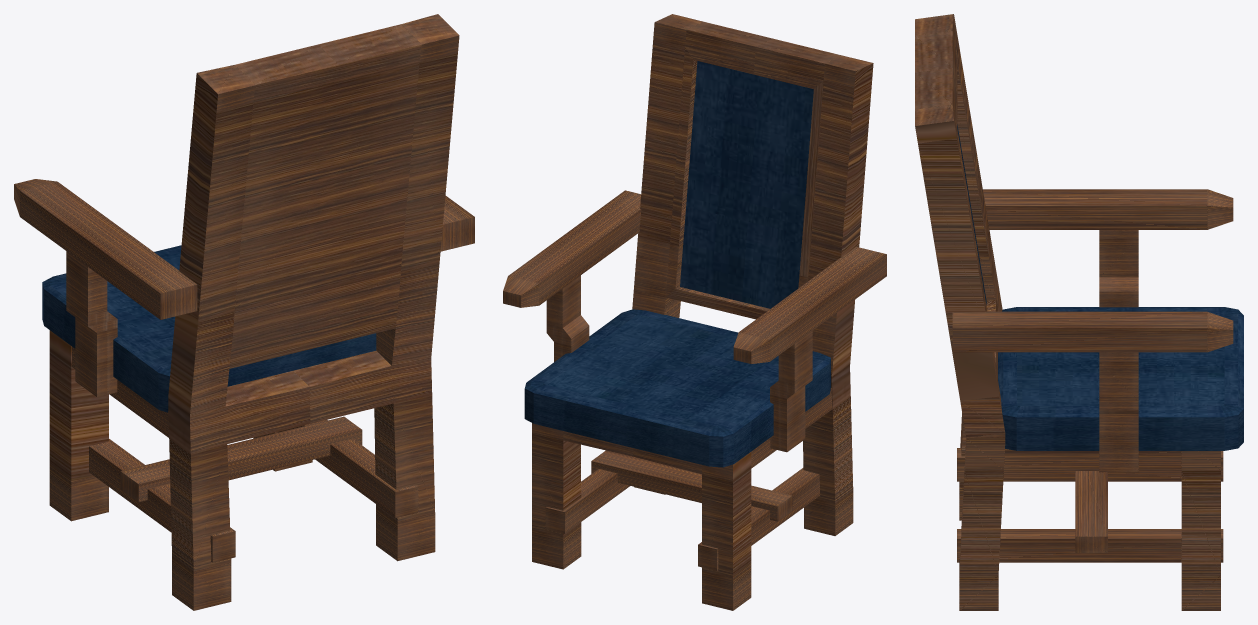
Rendered from Kreslo.fbx.
3 views of the same model, side by side, from view 1: azimuth 30°, elevation 25°; view 2: azimuth 150°, elevation 25°; view 3: azimuth 270°, elevation 25° (orthographic). The views are drawn at different scales.
Parts seen in each view (by area): view 1: Cube.002, Cube.004, Cube.005, Cube, Cube.003; view 2: Cube.002, Cube.005, Cube.004, Cube.003, Cube; view 3: Cube.002, Cube.005, Cube.004, Cube.003, Cube.
Part boxes in pixels (box(x1,y1,x2,y2)): Cube.002: box(49, 14, 459, 610); Cube.004: box(14, 179, 474, 319); Cube.005: box(42, 245, 376, 412); Cube: box(120, 416, 362, 502); Cube.003: box(66, 251, 117, 397); Cube.002: box(532, 14, 873, 610); Cube.005: box(524, 309, 830, 467); Cube.004: box(503, 190, 886, 363); Cube.003: box(546, 275, 812, 452); Cube: box(591, 450, 792, 521); Cube.002: box(915, 14, 1223, 610); Cube.005: box(998, 307, 1243, 450); Cube.004: box(952, 189, 1233, 352); Cube.003: box(1099, 230, 1138, 472); Cube: box(1075, 471, 1107, 552).
Bounding box in the file's own units: 1673 × 2747 × 1671.
3 materials, 2 textured.
